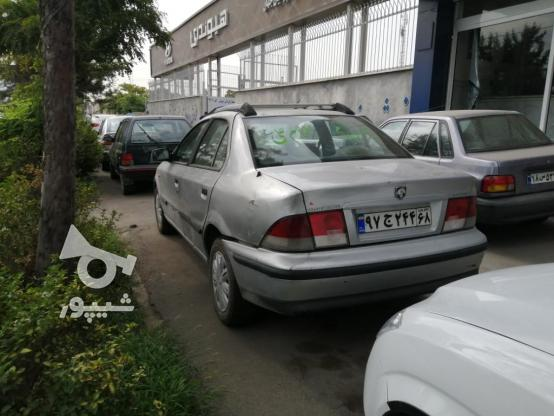car: (358, 204, 431, 236), (527, 173, 554, 186)
